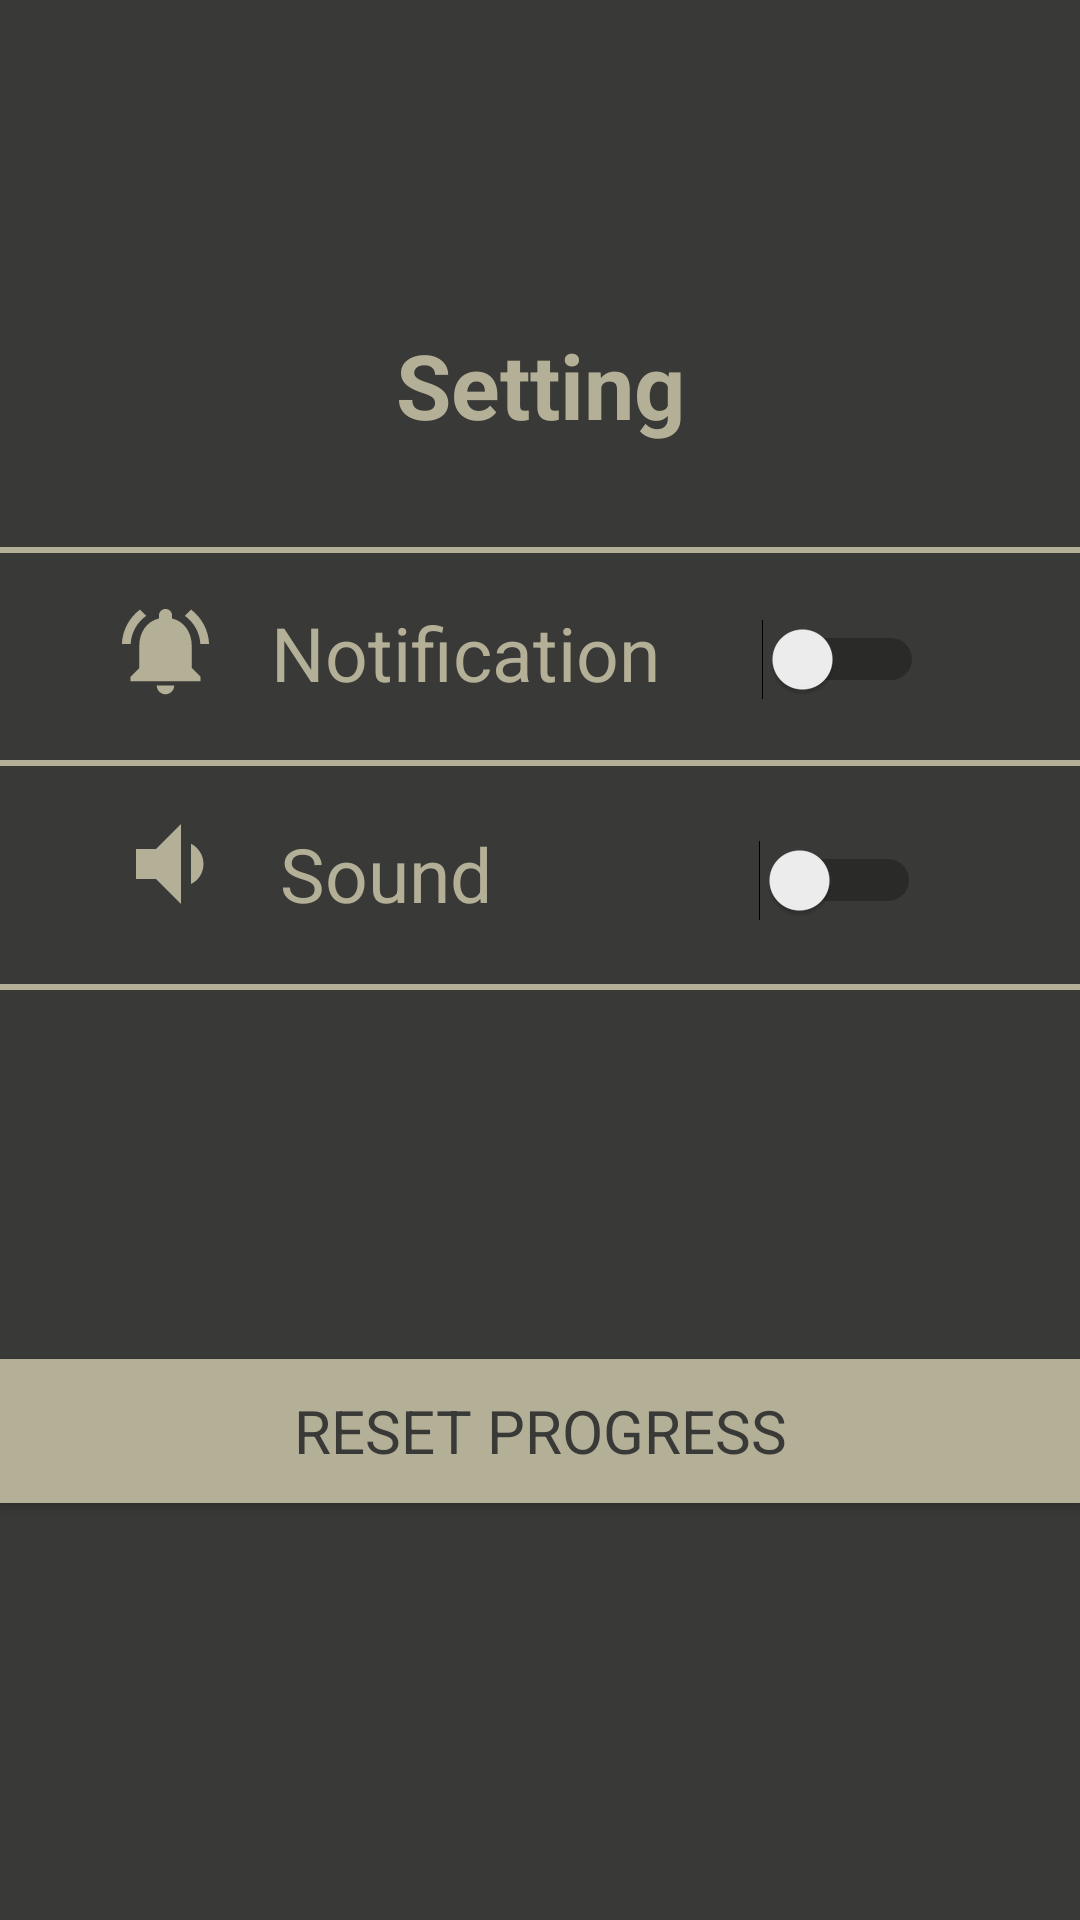

Where to tap for icons on this 1080×1920 app screen, as [x,y]:
volume down: [170,864]
